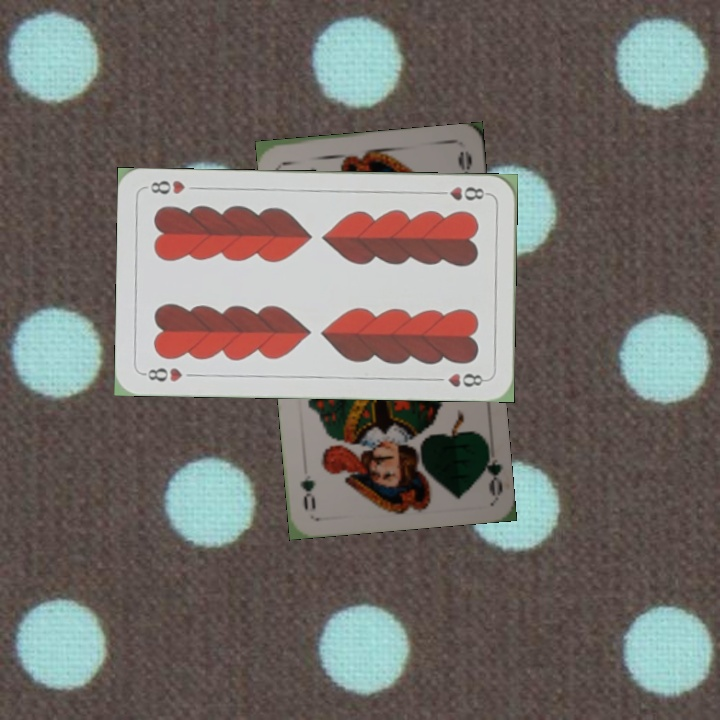GO: (477, 437, 506, 496)
H8: (432, 183, 491, 203), (139, 363, 185, 384)
